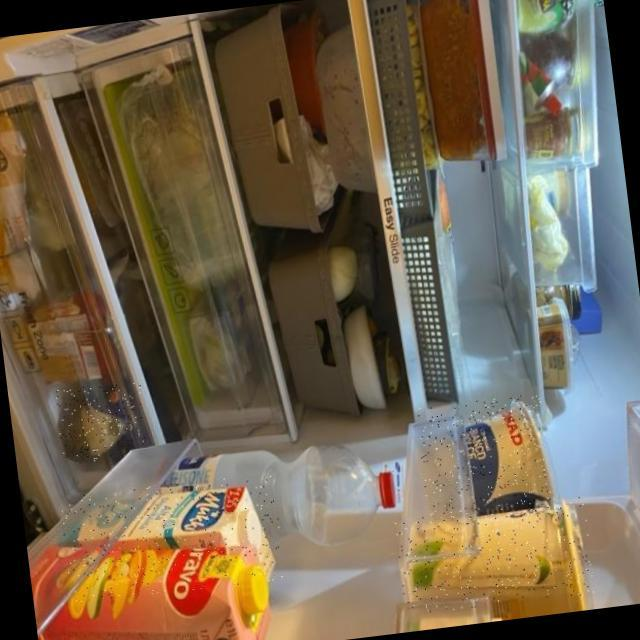Queso: (54, 380, 148, 465)
Yogur: (393, 496, 594, 616), (414, 393, 554, 528)
